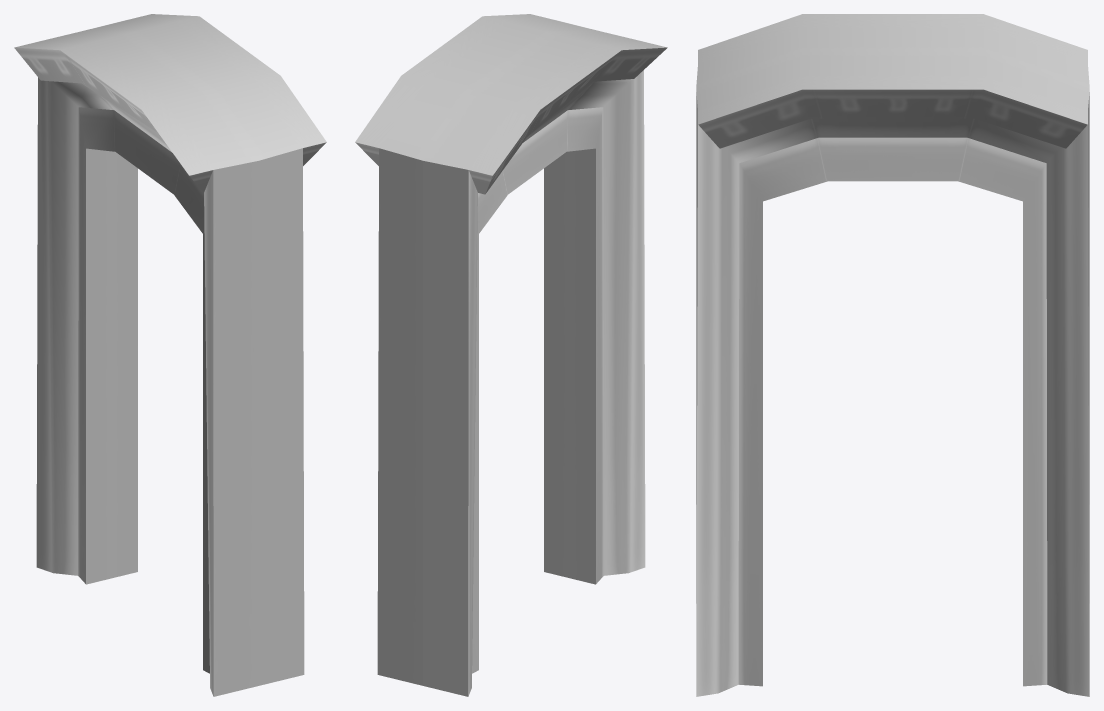
The model's file is Arch_a.fbx.
3 renders of one model, left to right at view 1: azimuth 30°, elevation 25°; view 2: azimuth 150°, elevation 25°; view 3: azimuth 270°, elevation 25°, orthographic. The views are drawn at different scales.
Parts seen in each view (by area): view 1: pCube26; view 2: pCube26; view 3: pCube26.
Boxes of the visible parts, x1=… form: pCube26: x1=14, y1=14, x2=326, y2=696; pCube26: x1=355, y1=14, x2=667, y2=696; pCube26: x1=696, y1=14, x2=1089, y2=696.
Bounding box in the file's own units: 1.55 × 5.92 × 3.4.
